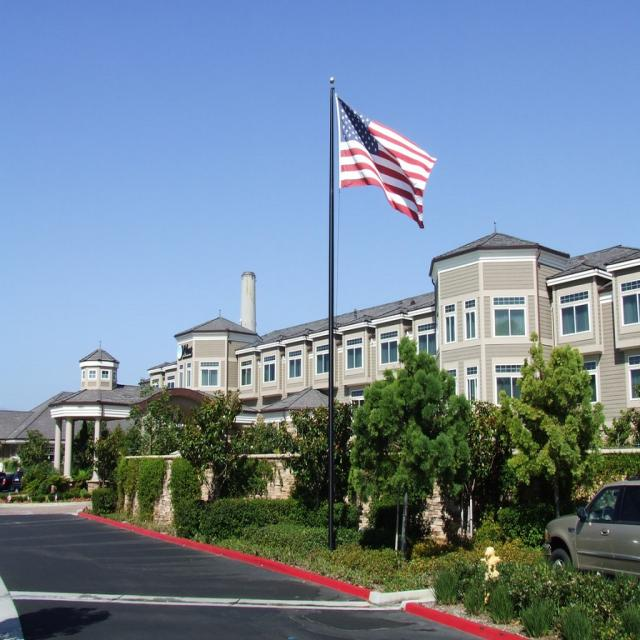other: (542, 478, 640, 588), (12, 470, 26, 492), (0, 472, 15, 492)
